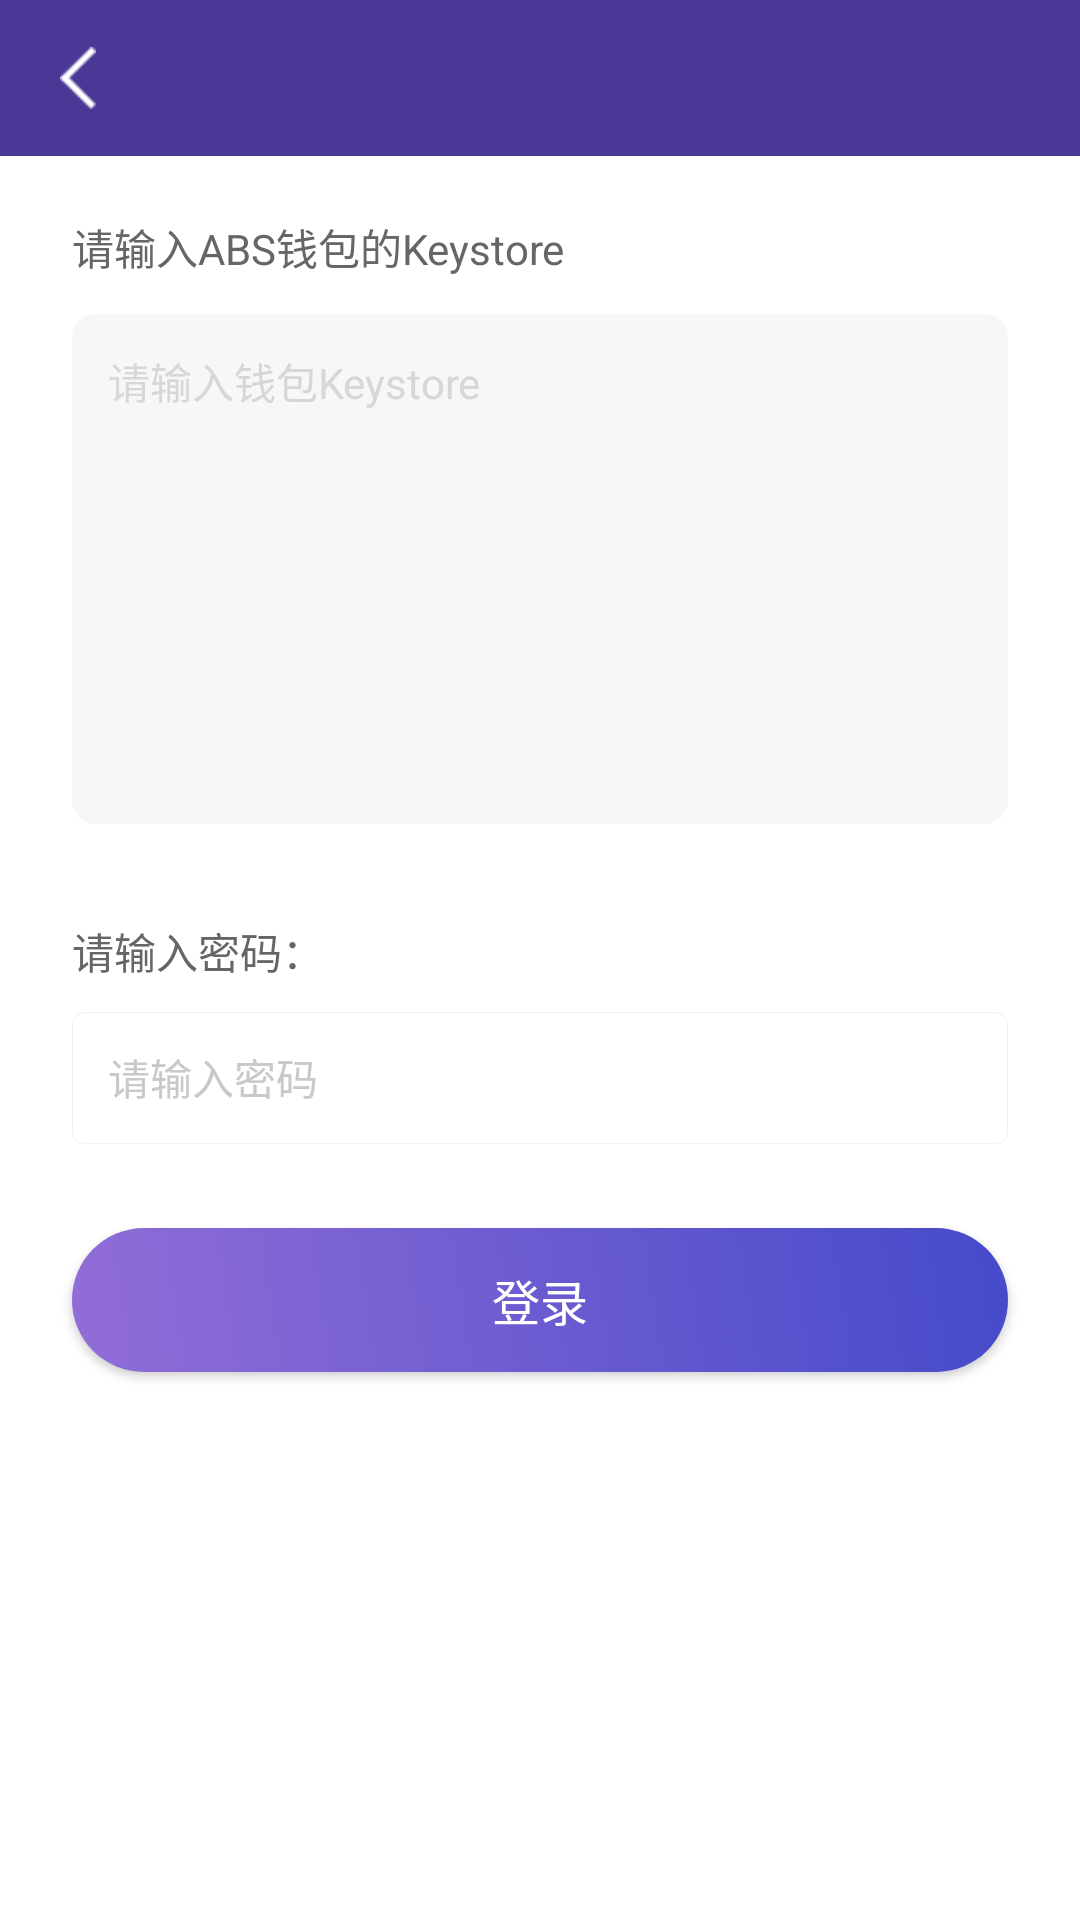

Icons on this 1080px x 1920px Android screen, each with its box as [left=x1, top=y1, right=x2, bottom=y2]:
title back: [left=60, top=47, right=96, bottom=109]
